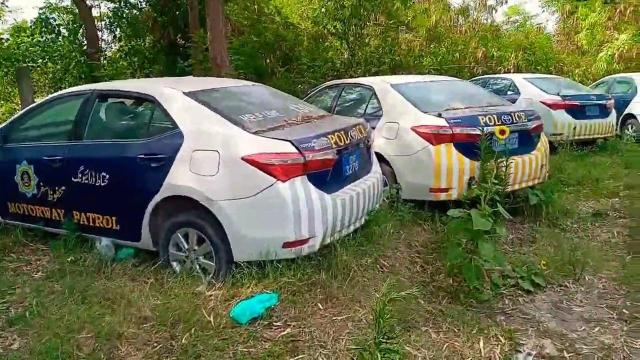police: (0, 78, 385, 274), (312, 68, 553, 197), (478, 64, 620, 153)
